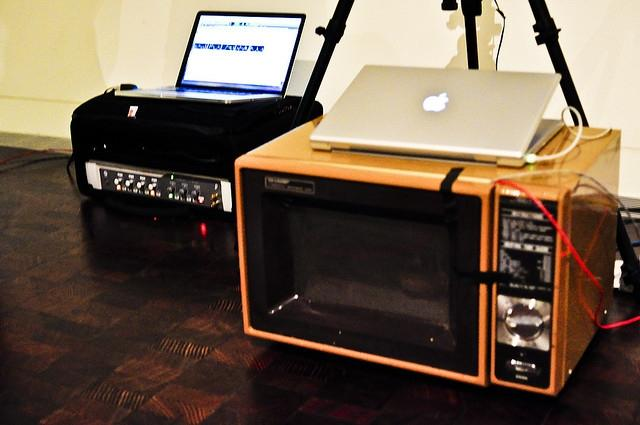apple: (422, 92, 448, 111)
